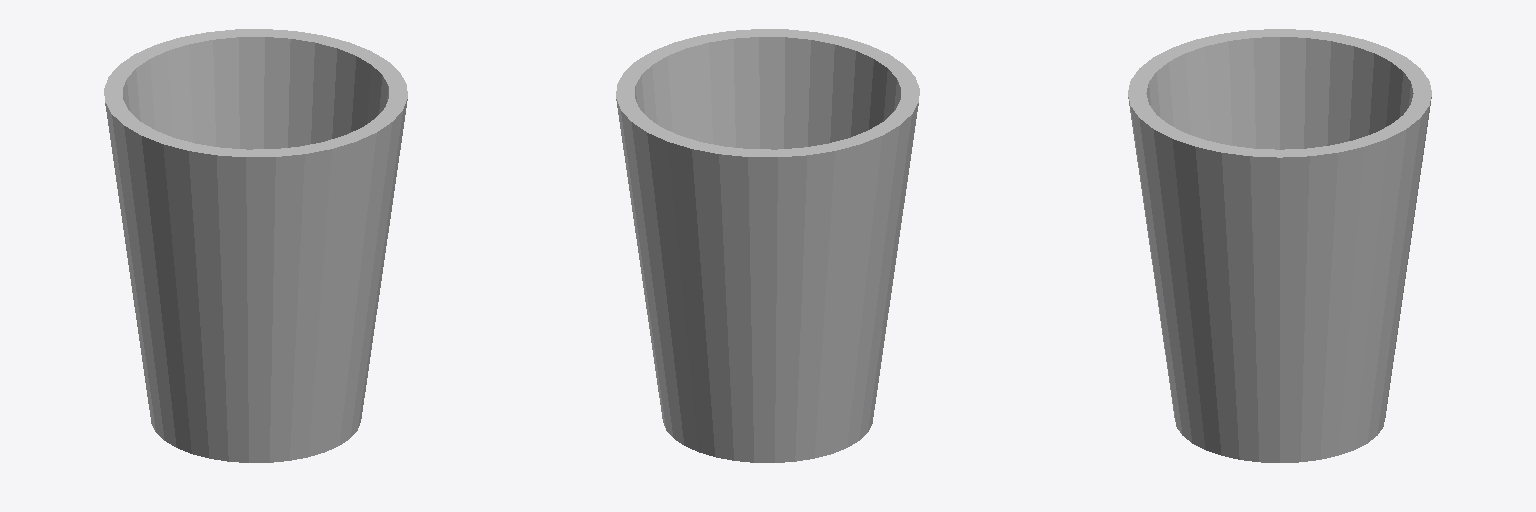
File: glas.obj
The picture shows the model from 3 angles: view 1: azimuth 30°, elevation 25°; view 2: azimuth 150°, elevation 25°; view 3: azimuth 270°, elevation 25°; orthographic projection.
Parts seen in each view (by area): view 1: Cylinder.003_Cylinder.004; view 2: Cylinder.003_Cylinder.004; view 3: Cylinder.003_Cylinder.004.
Boxes of the visible parts, x1=… form: Cylinder.003_Cylinder.004: x1=104, y1=29, x2=407, y2=462; Cylinder.003_Cylinder.004: x1=616, y1=29, x2=919, y2=462; Cylinder.003_Cylinder.004: x1=1128, y1=29, x2=1431, y2=462.
Bounding box in the file's own units: 0.2369 × 0.2792 × 0.2369.